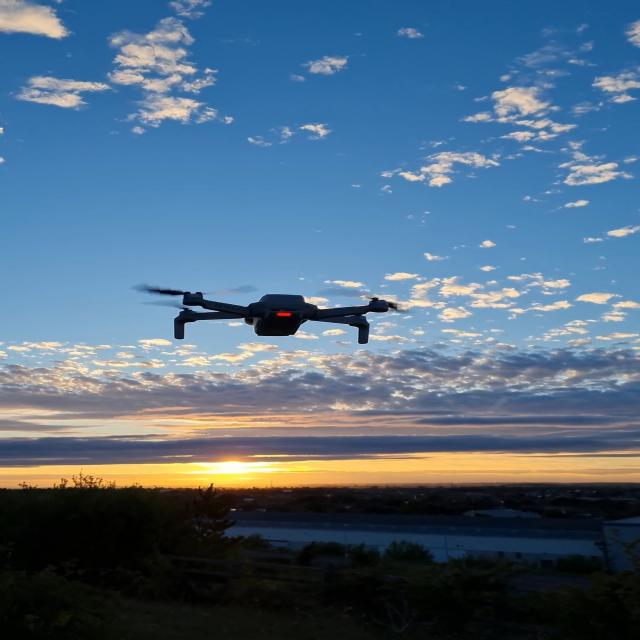Drone: (148, 266, 467, 345)
